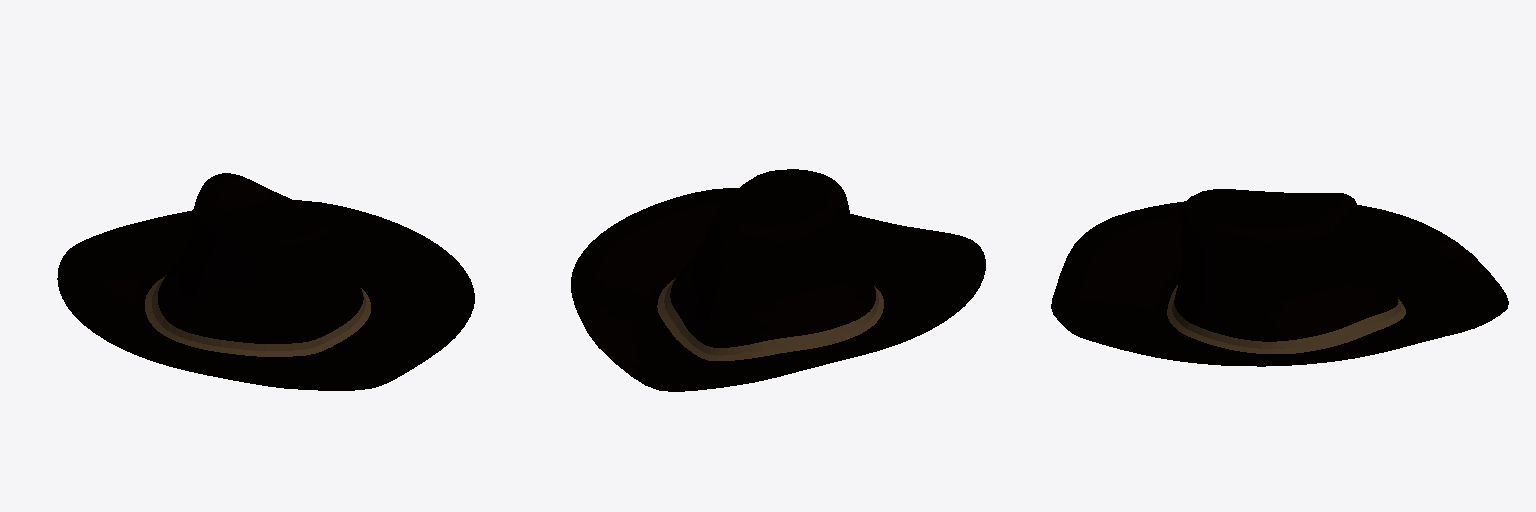
Rendered from CowboyHat.obj.
The picture shows the model from 3 angles: view 1: azimuth 30°, elevation 25°; view 2: azimuth 150°, elevation 25°; view 3: azimuth 270°, elevation 25°; orthographic projection.
Visible parts, largest first — view 1: CowboyHat; view 2: CowboyHat; view 3: CowboyHat.
Part boxes in pixels (left/top/right/bottom): CowboyHat: left=57, top=173, right=474, bottom=390; CowboyHat: left=571, top=169, right=985, bottom=391; CowboyHat: left=1051, top=189, right=1508, bottom=366.
Size of the model in its own units: 2.32 by 0.7322 by 2.64.